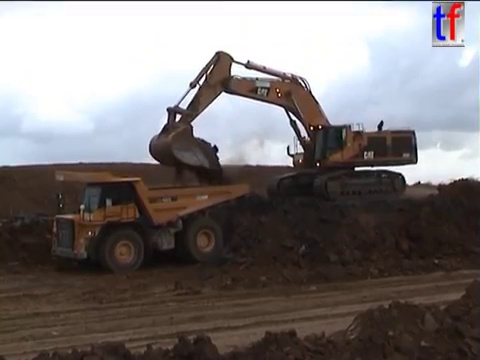excavator: (145, 48, 421, 204)
truck: (43, 167, 250, 274)
